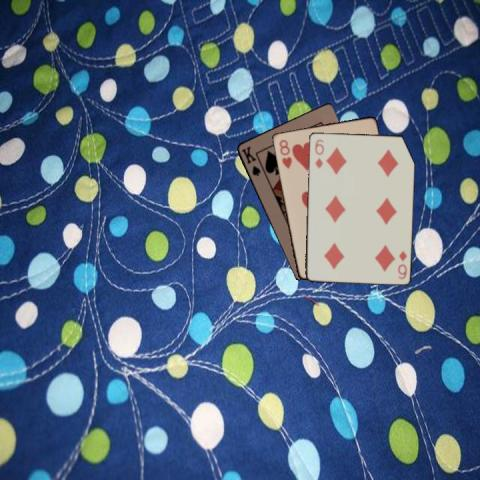6d: (312, 136, 325, 169), (395, 248, 408, 281)
8h: (276, 137, 293, 170)
Ks: (238, 144, 262, 177)
